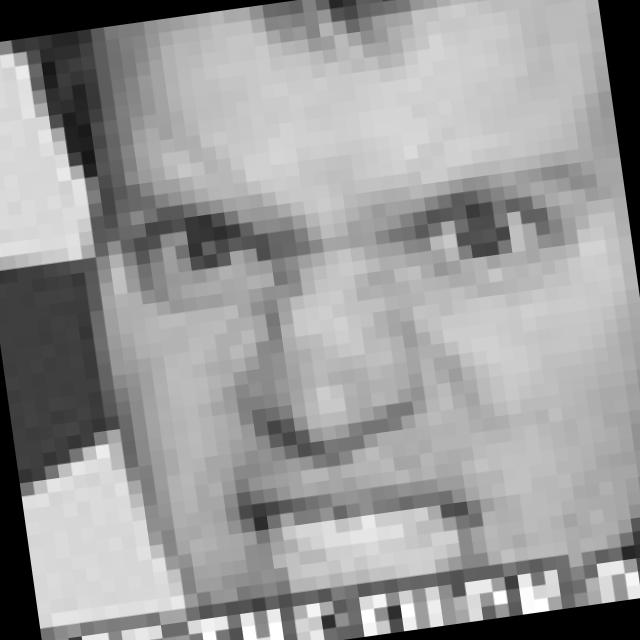angry: (99, 125, 640, 616)
